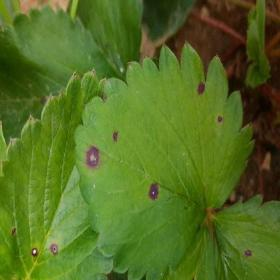Leaf Spot: (73, 39, 256, 279), (0, 67, 114, 279), (0, 4, 118, 147), (68, 0, 144, 85), (210, 194, 279, 279)
